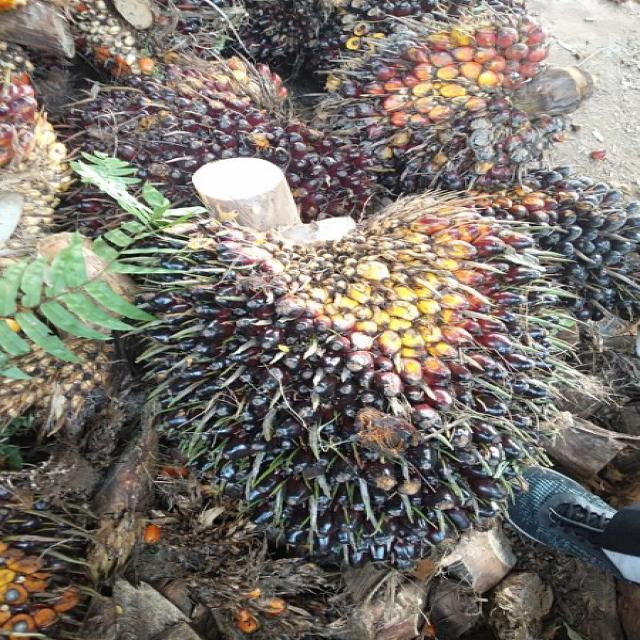fraksi 00: (116, 114, 575, 590)
